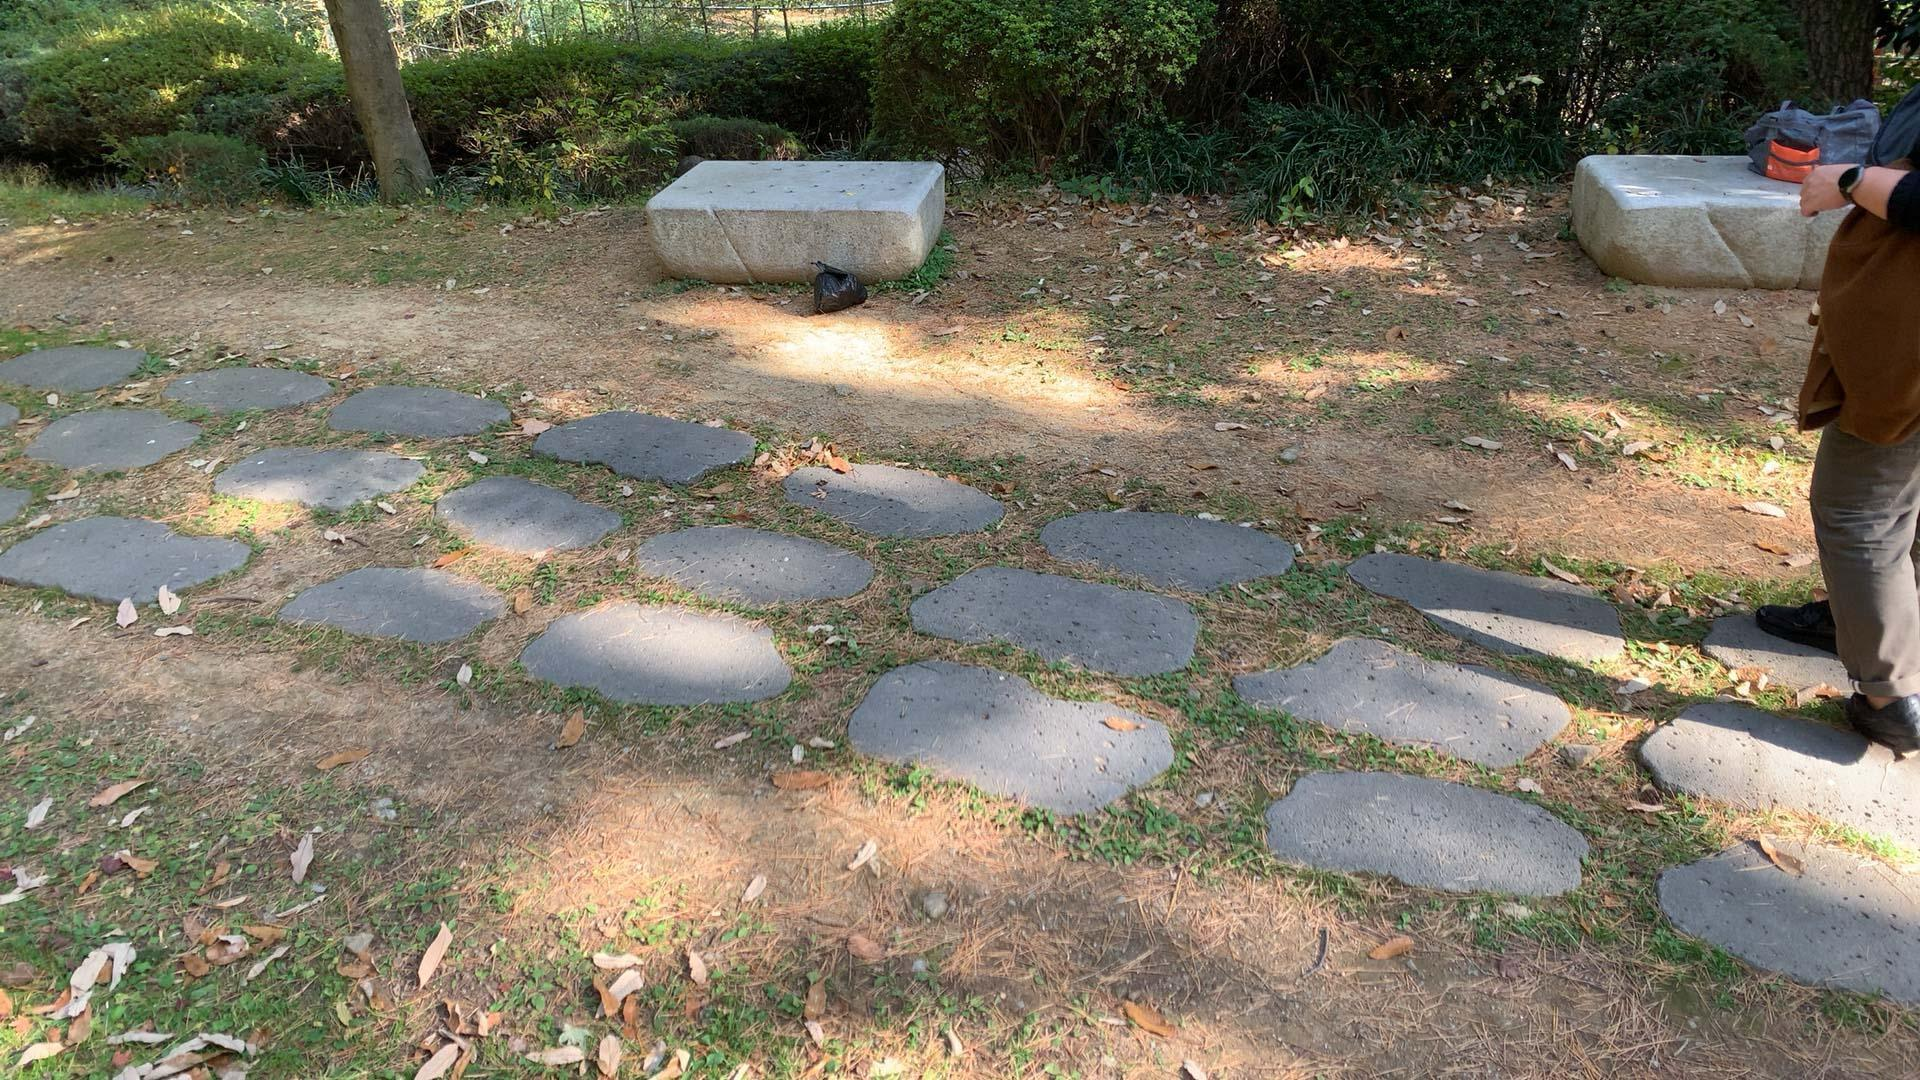black_bag: (803, 255, 876, 319)
